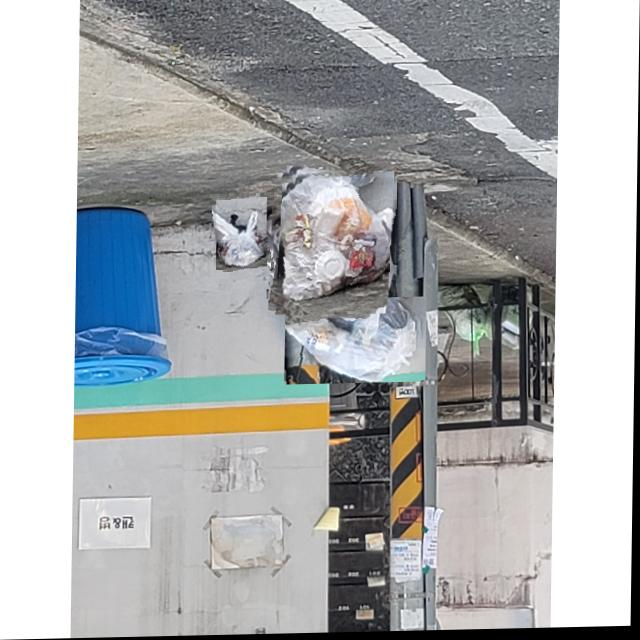other_trashbag: (268, 175, 397, 315), (286, 300, 426, 385), (212, 195, 272, 272)
